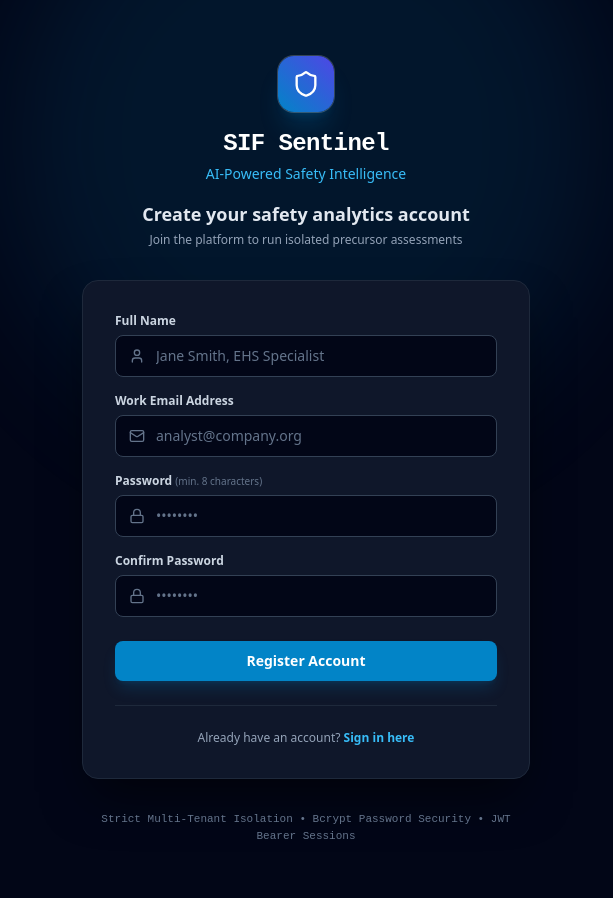
Scenario: Register Component › validates password mismatch on client side
Type "Jane Doe" into the field labelled "Full Name" at (306, 356), box [115,335,497,377]
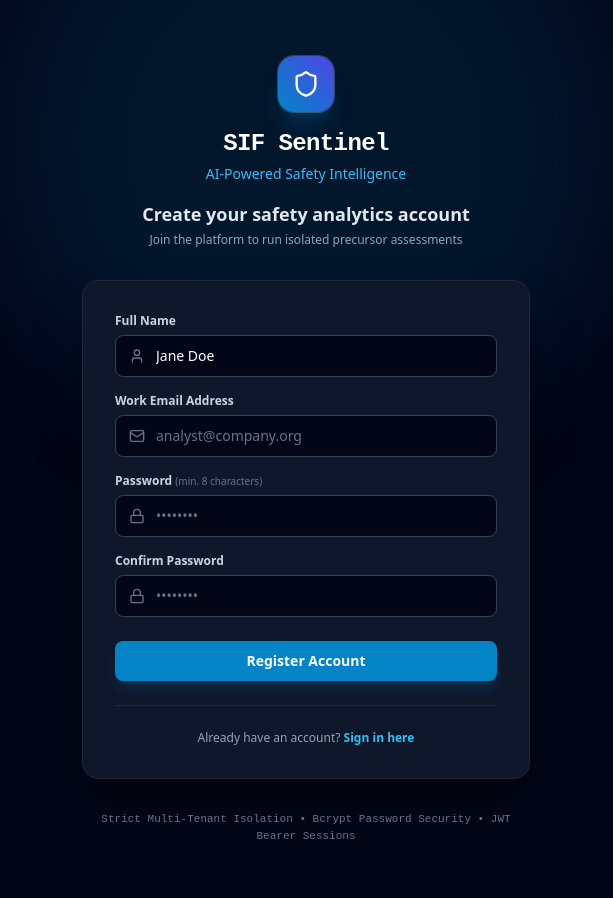
Type "jane@company.org" into the field labelled "Work Email Address" at (306, 436), box [115,415,497,457]
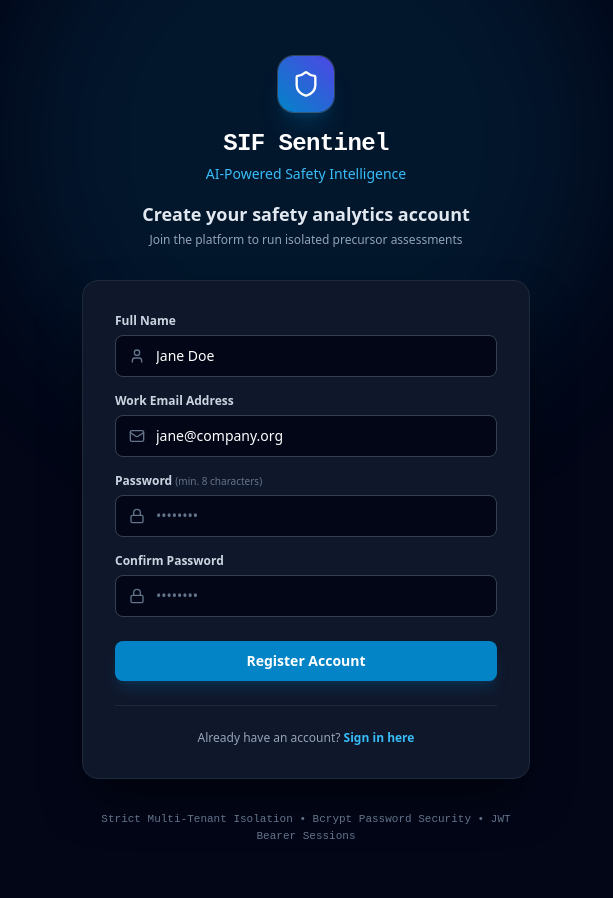
Type "Password123!" into the password field labelled "Password (min. 8 characters)" at (306, 516), box [115,495,497,537]
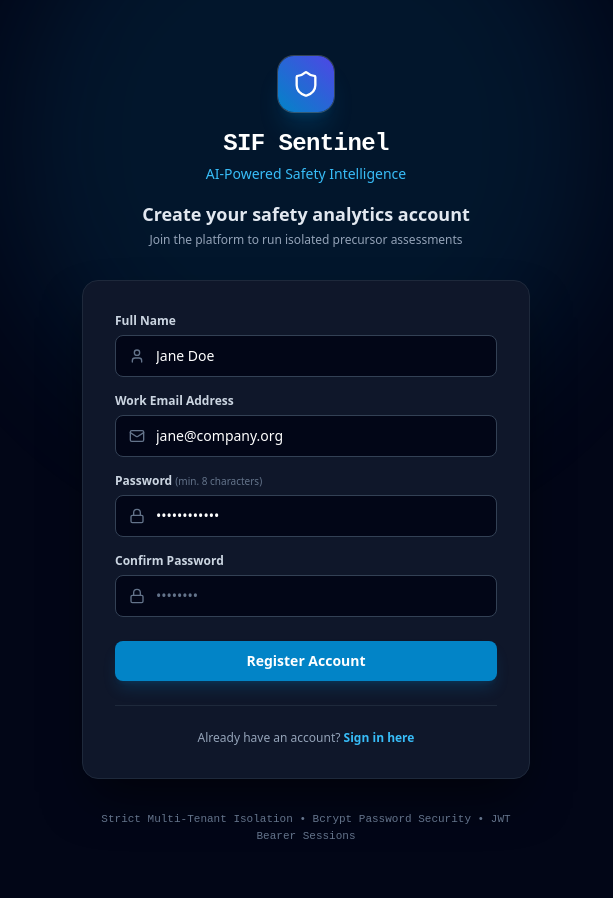
Type "DifferentPassword!" into the password field labelled "Confirm Password" at (306, 596), box [115,575,497,617]
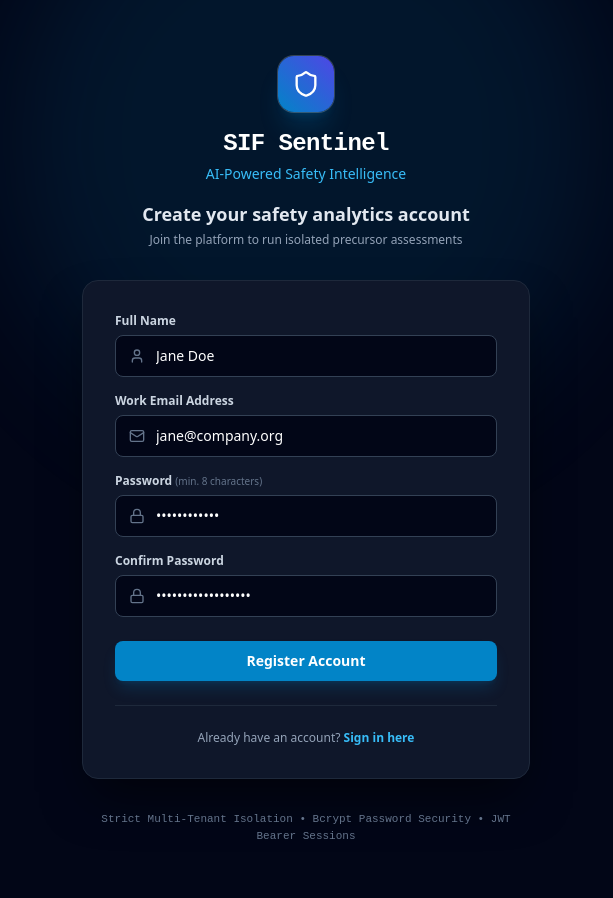
Click the button "Register Account" at (306, 661), box [115,641,497,681]
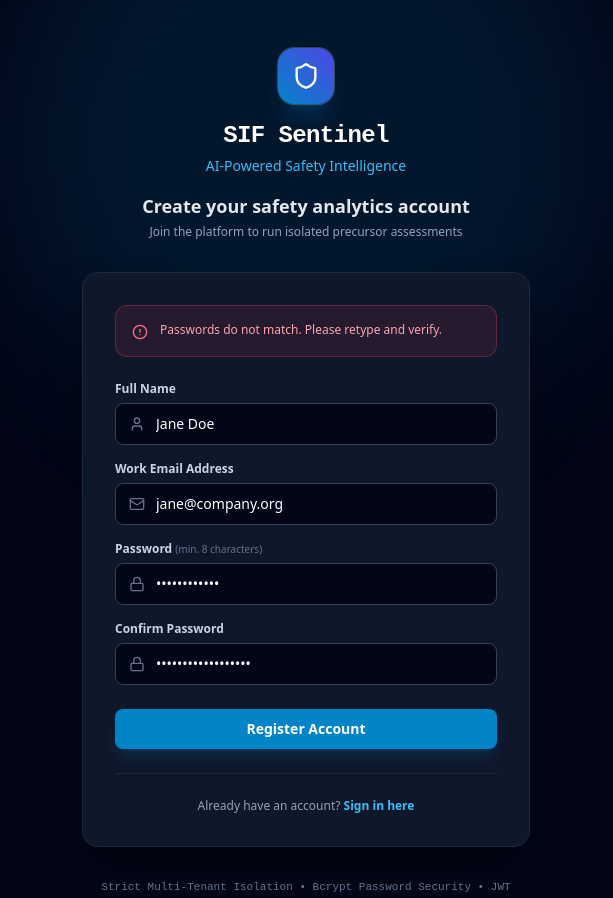
Check: the message shows "Passwords do not match", box [160,321,442,338]
